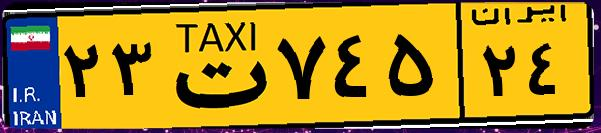2: (57, 26, 110, 100), (475, 38, 525, 113)
3: (110, 28, 158, 98)
4: (330, 28, 385, 110), (525, 38, 570, 115)
5: (385, 28, 445, 110)
7: (270, 28, 330, 110)
ت: (158, 12, 270, 120)
